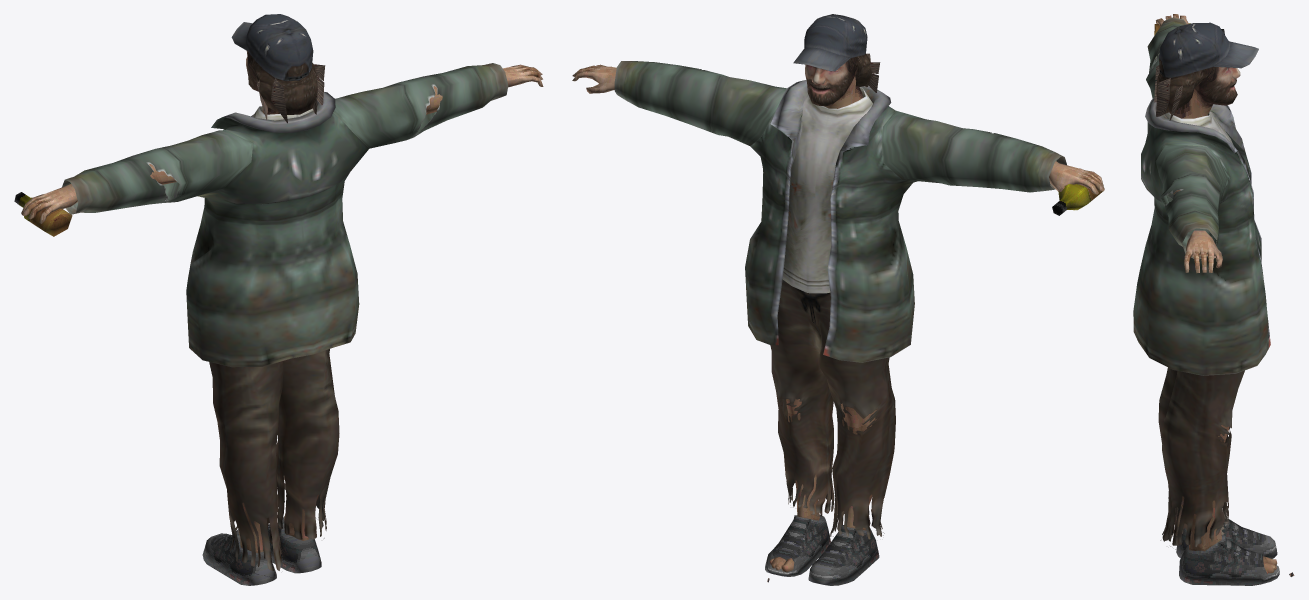
The picture shows the model from 3 angles, left to right: view 1: azimuth 30°, elevation 25°; view 2: azimuth 150°, elevation 25°; view 3: azimuth 270°, elevation 25°; orthographic projection. The views are drawn at different scales.
Visible parts, largest first — view 1: Ollie_Geometry; view 2: Ollie_Geometry; view 3: Ollie_Geometry.
Boxes of the visible parts, x1=… form: Ollie_Geometry: x1=14, y1=14, x2=543, y2=585; Ollie_Geometry: x1=572, y1=14, x2=1104, y2=585; Ollie_Geometry: x1=1133, y1=14, x2=1294, y2=585.
Bounding box in the file's own units: 185 × 183 × 49.44.
Materials: 8 (8 with a texture image).
